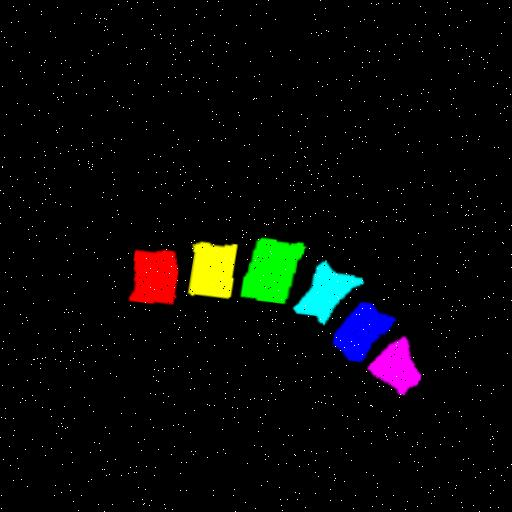L1: (129, 250, 178, 305)
L2: (188, 244, 236, 300)
L3: (239, 240, 303, 306)
L4: (292, 264, 360, 326)
L5: (332, 305, 392, 365)
S1: (368, 340, 418, 398)
